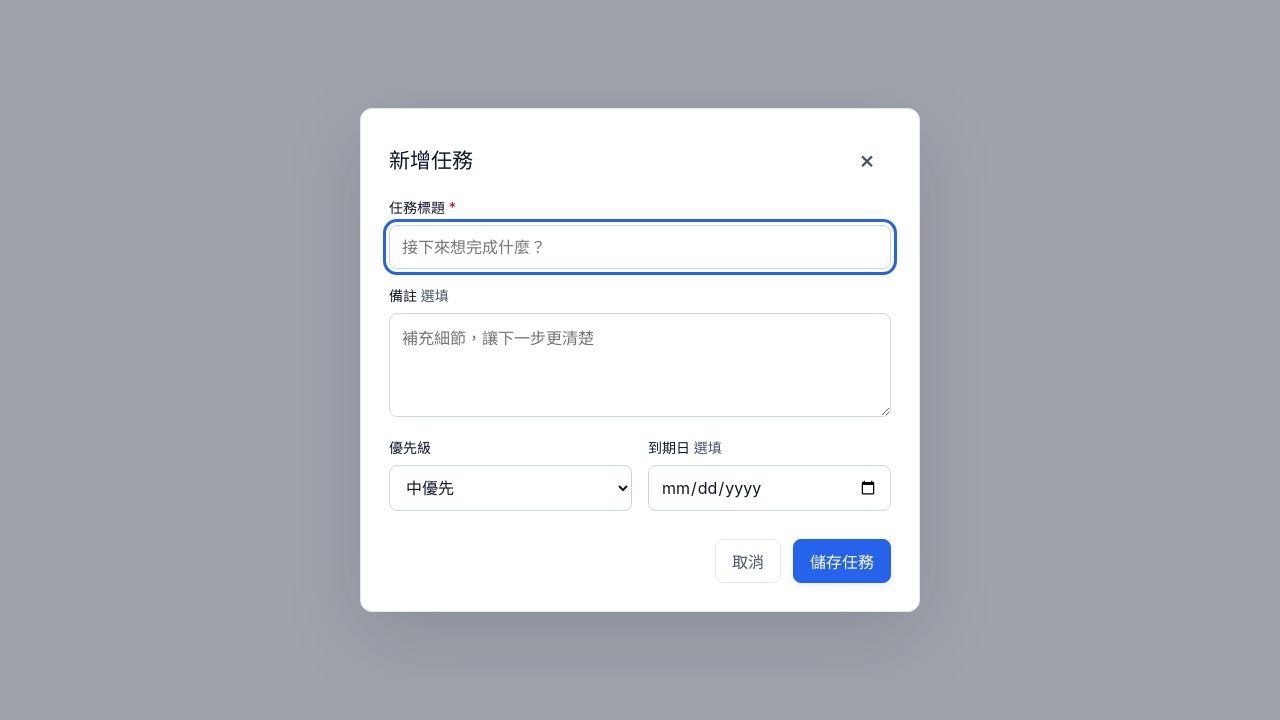
Test: validates a blank title without submitting
Click the button "儲存任務" at x=842, y=561, box top-left (793, 539), bottom-right (891, 583)
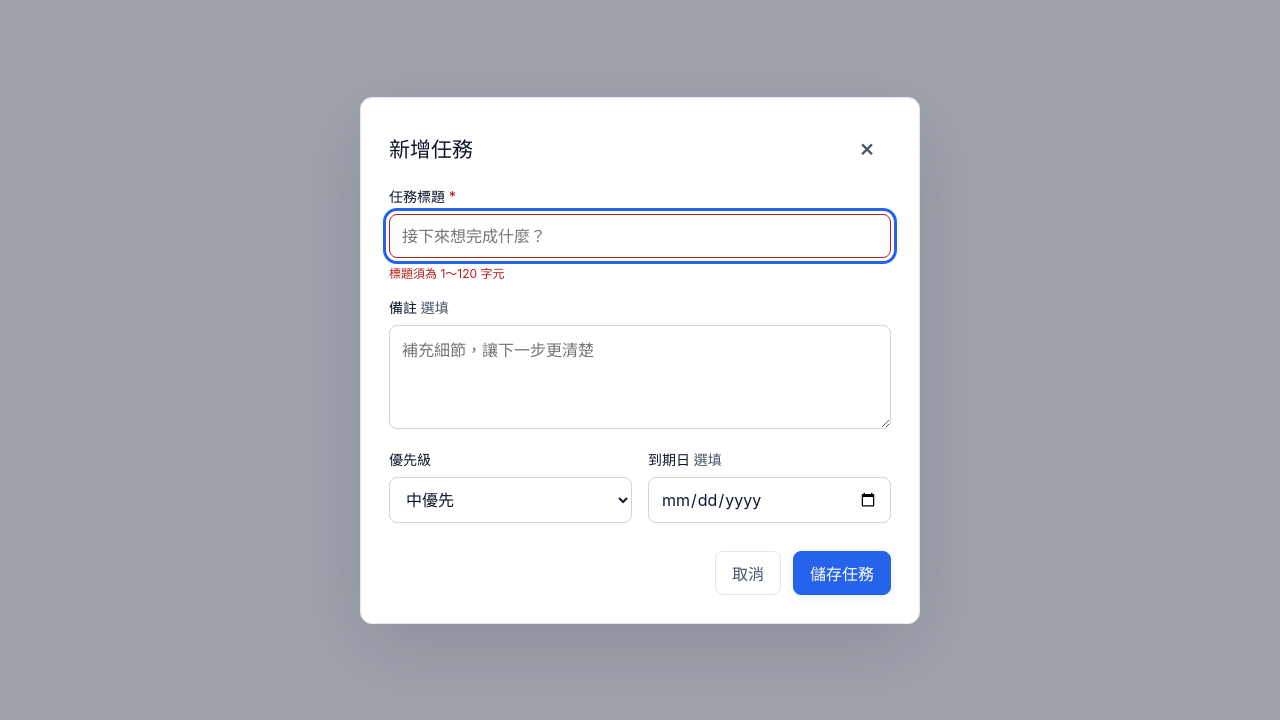
Expected: the text "標題須為 1～120 字元" is shown, top-left (389, 266), bottom-right (504, 280)
